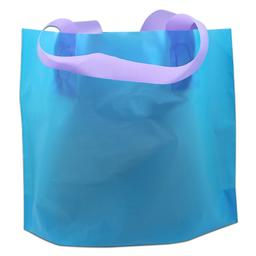plastic: (14, 7, 256, 248)
